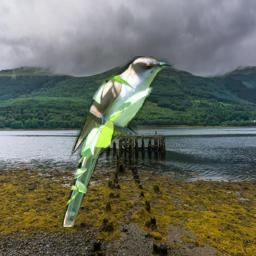Cuckoo: (62, 56, 174, 227)
